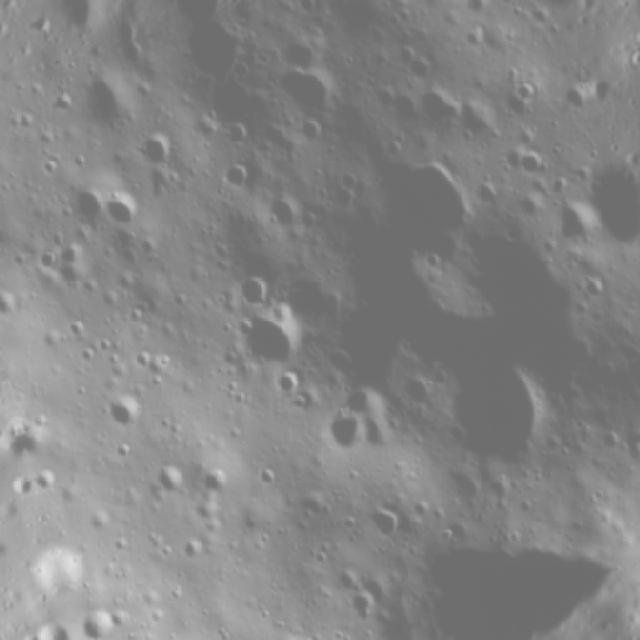crater: (348, 129, 499, 265), (432, 348, 573, 489), (224, 293, 318, 379), (180, 12, 269, 102), (272, 49, 346, 136), (550, 188, 612, 258), (352, 492, 420, 554), (322, 403, 384, 466), (227, 256, 284, 318), (98, 382, 154, 442), (258, 185, 312, 242), (134, 119, 183, 178), (100, 187, 145, 244), (334, 584, 384, 631), (213, 158, 264, 202), (150, 455, 195, 502), (75, 603, 122, 640), (513, 144, 553, 185), (414, 0, 488, 15)
